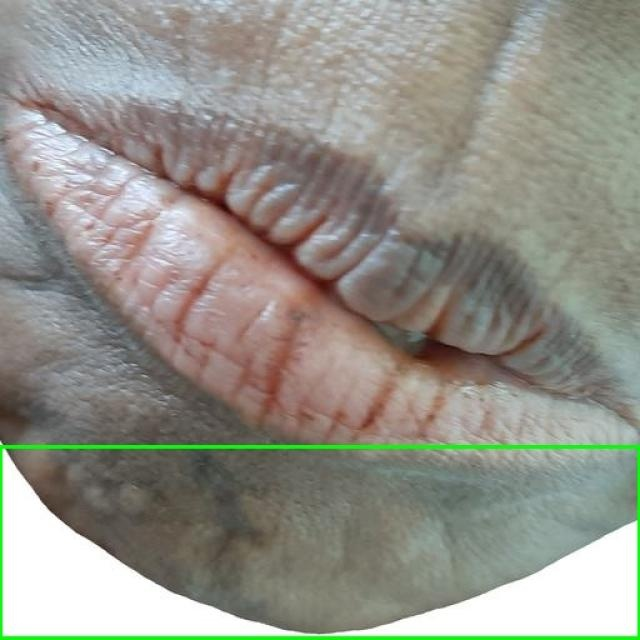Eczema: (0, 448, 639, 639)
